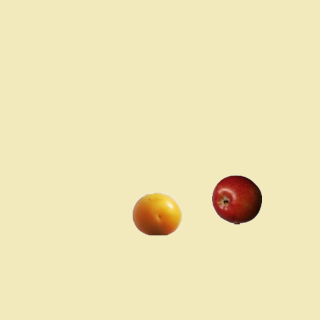Apple Braeburn: (211, 174, 261, 224)
Cherry Wax Yellow: (131, 188, 181, 238)
